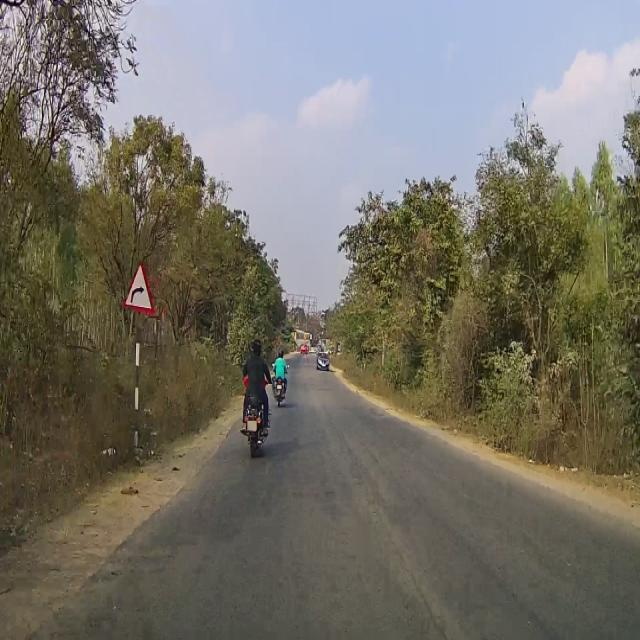sign board ahead at: (121, 260, 156, 318)
